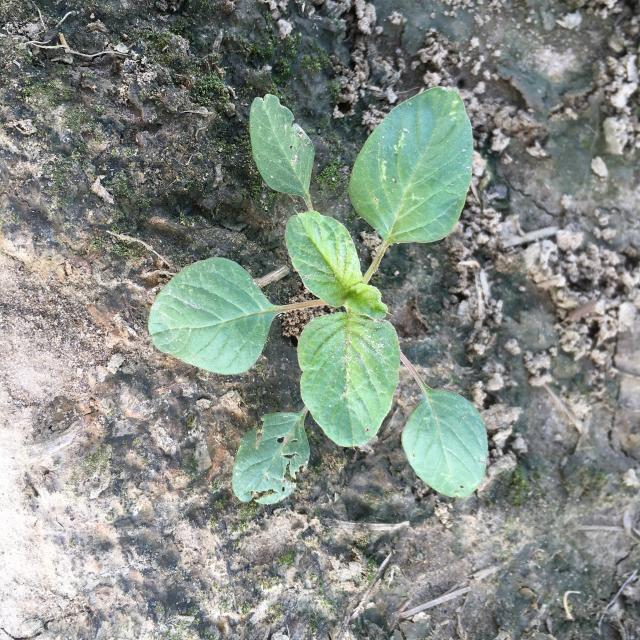PalmerAmaranth: (148, 87, 488, 504)
